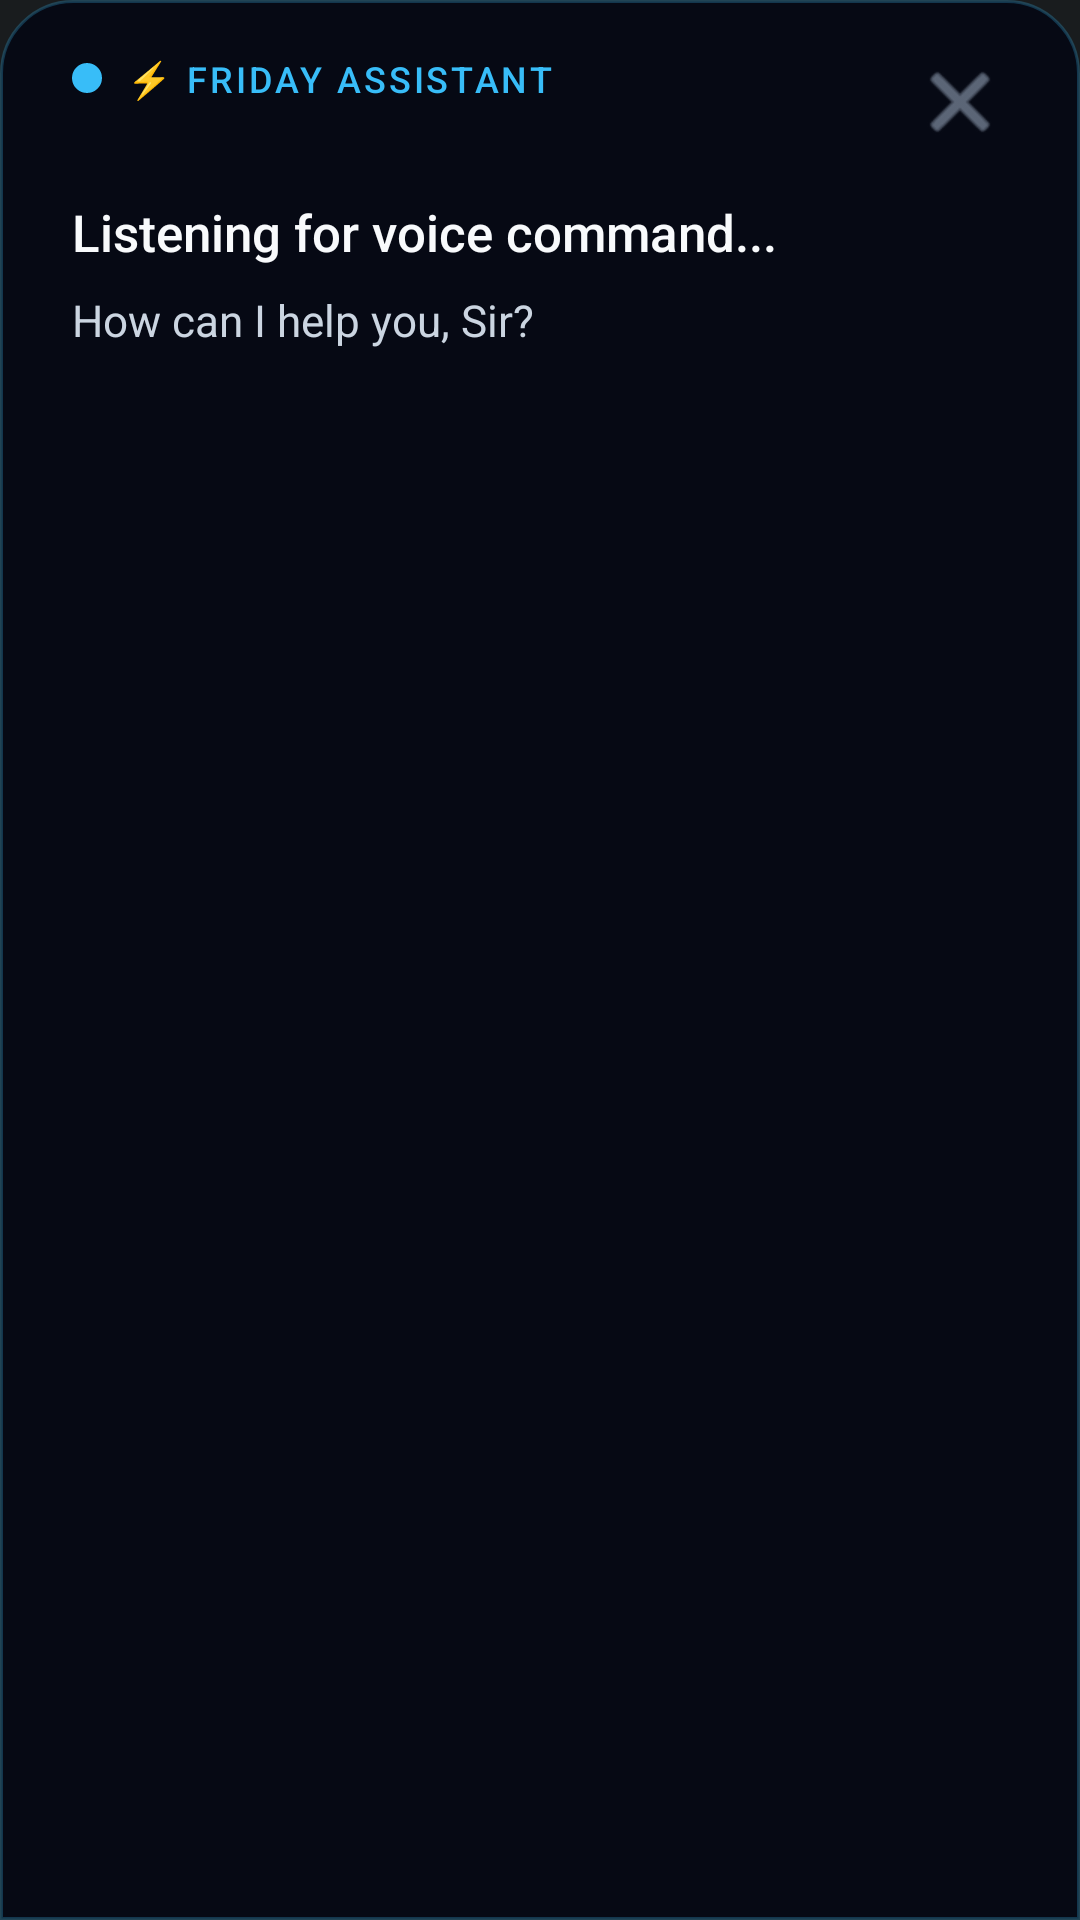

Locate icon controls on the screen. Image size 1080px×1920px, boxes as rect(x1, y1, x2, y2).
Close: rect(930, 72, 990, 132)
